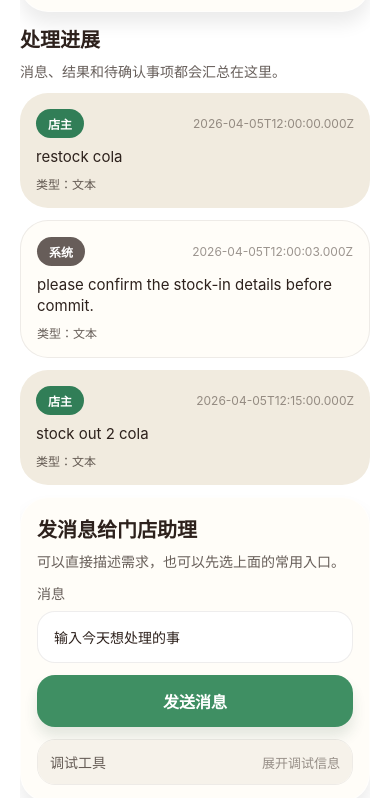
ChatScreen › shows a recoverable error when voice upload request fails
(page scrolled)
Click the button labelled "调试工具 展开调试信息". click: (78, 762)
box: x1=38 y1=740 x2=352 y2=784
(page scrolled)
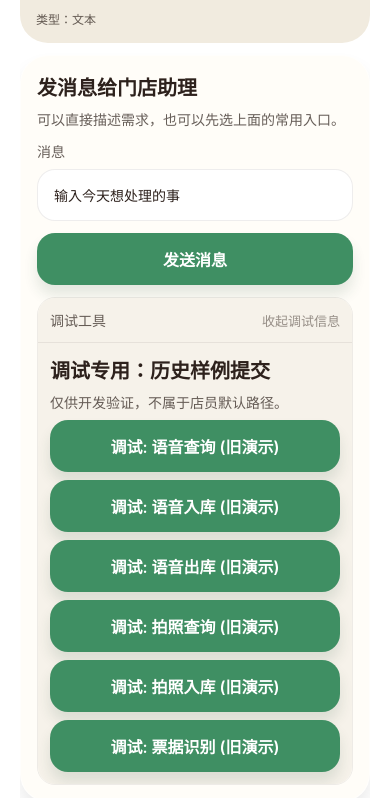
Now the text "调试: 语音查询 (旧演示)" is shown, box x1=110 y1=434 x2=280 y2=458
Click the button "调试: 语音查询 (旧演示)". click: (195, 446)
box: x1=50 y1=420 x2=340 y2=472
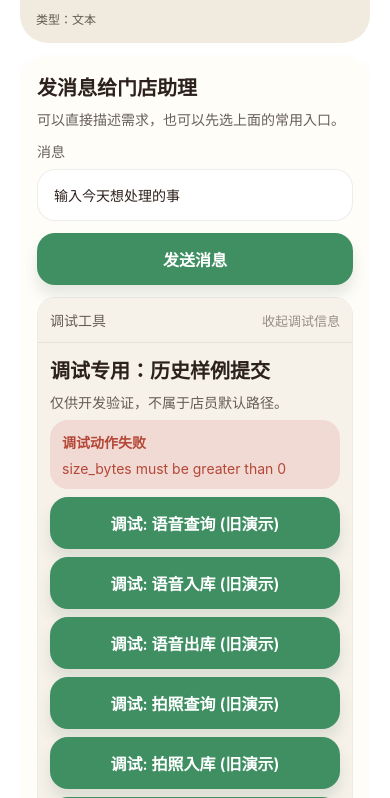
Now the text "size_bytes must be greater than 0" is shown, box x1=62 y1=460 x2=286 y2=477
